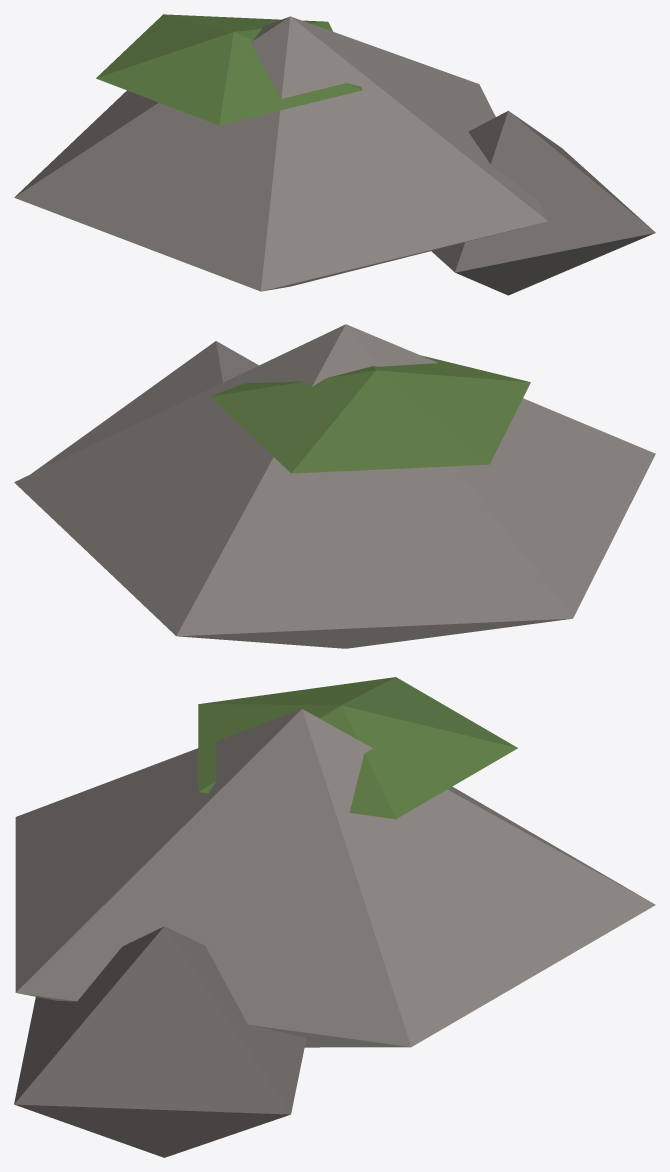
File: nature.rock.glb
The picture shows the model from 3 angles, top to bottom: view 1: azimuth 30°, elevation 25°; view 2: azimuth 150°, elevation 25°; view 3: azimuth 270°, elevation 25°; orthographic projection. The views are drawn at different scales.
Parts seen in each view (by area): view 1: nature-rock; view 2: nature-rock; view 3: nature-rock.
Boxes of the visible parts, x1,y1,x2,y2 form: nature-rock: (14,14,655,295); nature-rock: (14,324,655,648); nature-rock: (14,677,655,1157).
Size of the model in its own units: 1.84 by 0.98 by 1.63.
